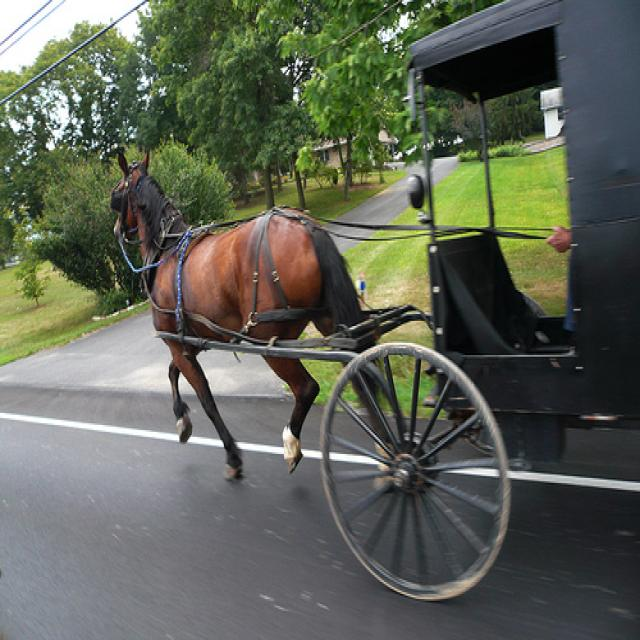horse: (109, 146, 397, 493)
